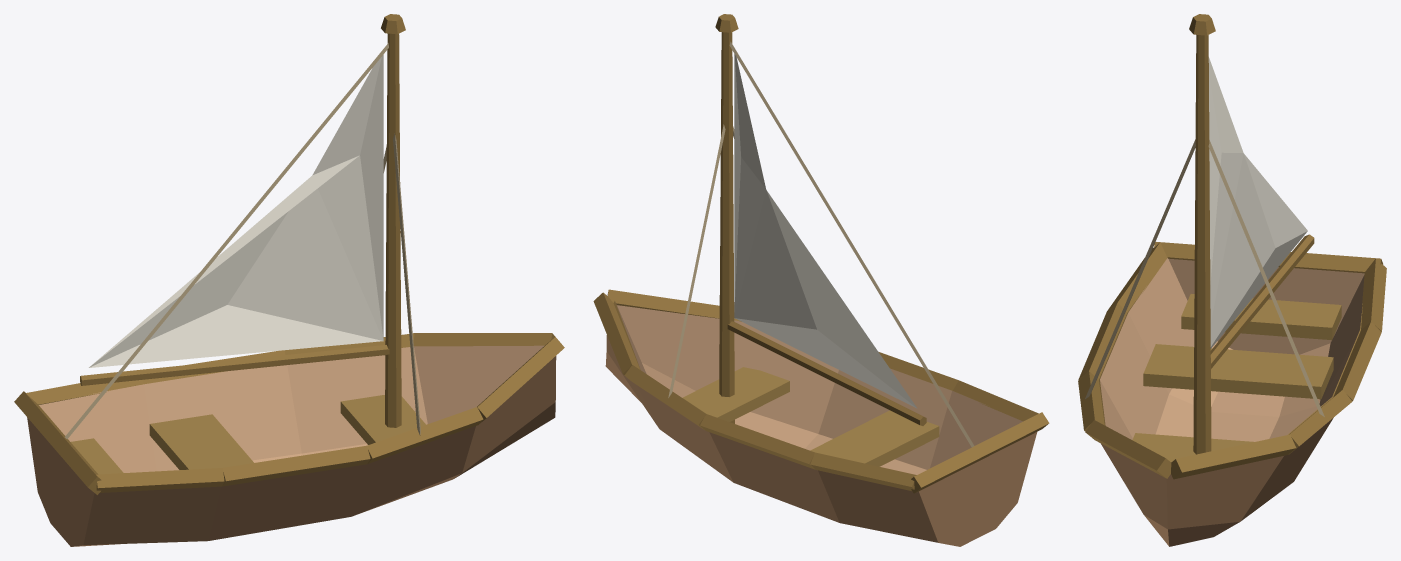
The model's file is boat.fbx.
The picture shows the model from 3 angles, left to right: view 1: azimuth 30°, elevation 25°; view 2: azimuth 150°, elevation 25°; view 3: azimuth 270°, elevation 25°; orthographic projection. The views are drawn at different scales.
Visible parts, largest first — view 1: Rowboat_Hull, Rowboat_Sails, Rowboat_Rim, Rowboat_Mast, Rowboat_Benches, Rowboat_Ropes; view 2: Rowboat_Hull, Rowboat_Sails, Rowboat_Rim, Rowboat_Mast, Rowboat_Benches, Rowboat_Ropes; view 3: Rowboat_Hull, Rowboat_Rim, Rowboat_Sails, Rowboat_Benches, Rowboat_Mast, Rowboat_Ropes.
Part boxes in pixels (left/top/right/bottom): Rowboat_Hull: left=27, top=345, right=556, bottom=546; Rowboat_Sails: left=89, top=55, right=383, bottom=367; Rowboat_Rim: left=14, top=333, right=564, bottom=494; Rowboat_Mast: left=80, top=14, right=405, bottom=427; Rowboat_Benches: left=71, top=395, right=425, bottom=474; Rowboat_Ropes: left=65, top=43, right=420, bottom=439; Rowboat_Hull: left=605, top=301, right=1037, bottom=546; Rowboat_Sails: left=734, top=48, right=917, bottom=408; Rowboat_Rim: left=593, top=289, right=1049, bottom=493; Rowboat_Mast: left=715, top=14, right=926, bottom=425; Rowboat_Benches: left=682, top=367, right=939, bottom=466; Rowboat_Ropes: left=668, top=41, right=974, bottom=447; Rowboat_Hull: left=1099, top=258, right=1364, bottom=546; Rowboat_Rim: left=1078, top=242, right=1386, bottom=479; Rowboat_Sails: left=1208, top=57, right=1307, bottom=348; Rowboat_Benches: left=1132, top=294, right=1341, bottom=462; Rowboat_Mast: left=1189, top=14, right=1314, bottom=454; Rowboat_Ropes: left=1085, top=139, right=1324, bottom=416.
Bounding box in the file's own units: 216 × 205 × 113.
